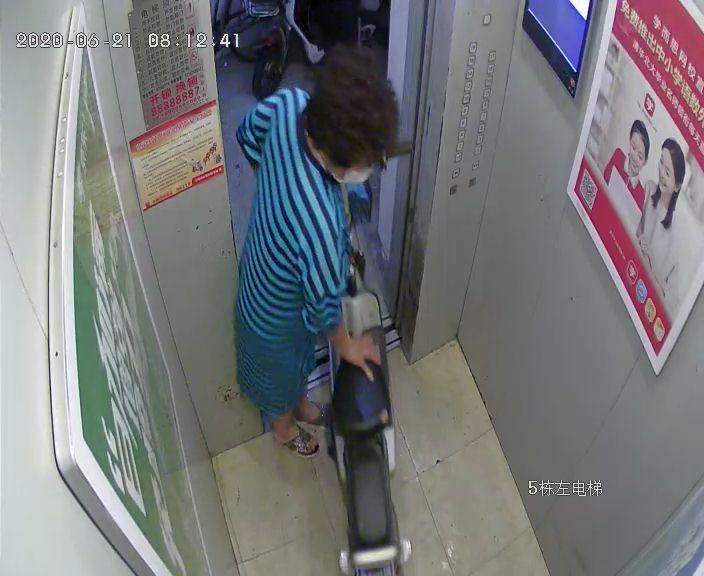Electric-bicycle: (311, 128, 414, 575)
